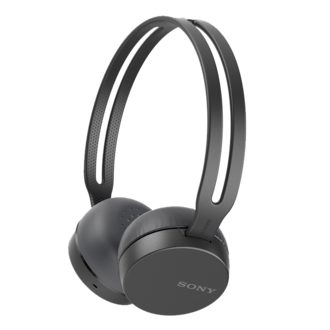Headphone: (61, 10, 251, 322)
